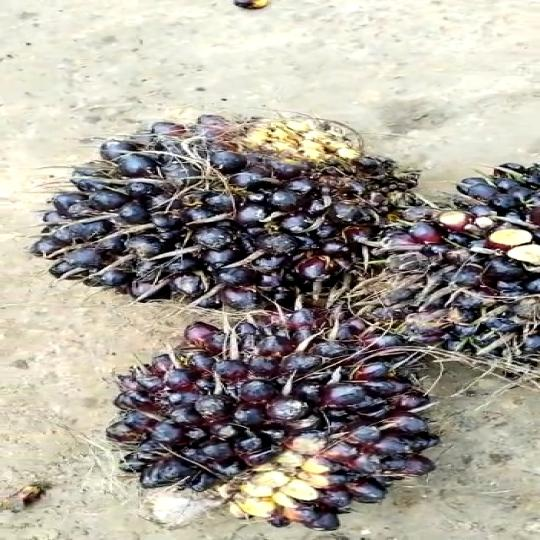mentah: (25, 106, 426, 316), (91, 305, 452, 537), (368, 140, 540, 381)
